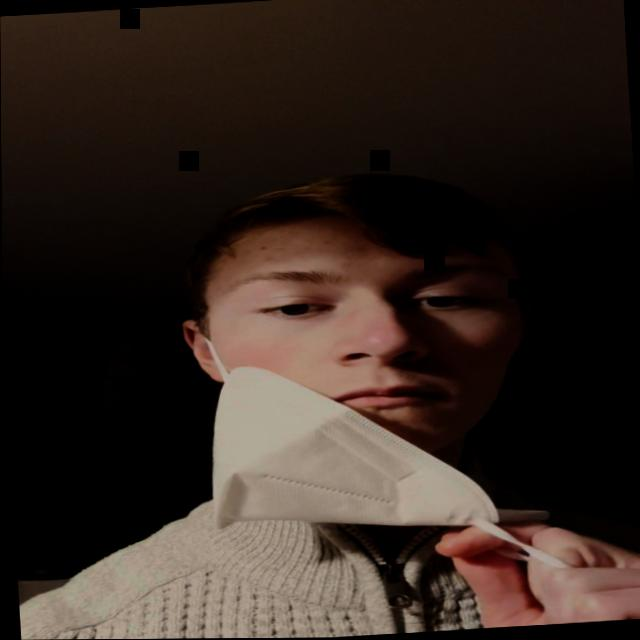NO-Mask: (154, 163, 544, 510)
